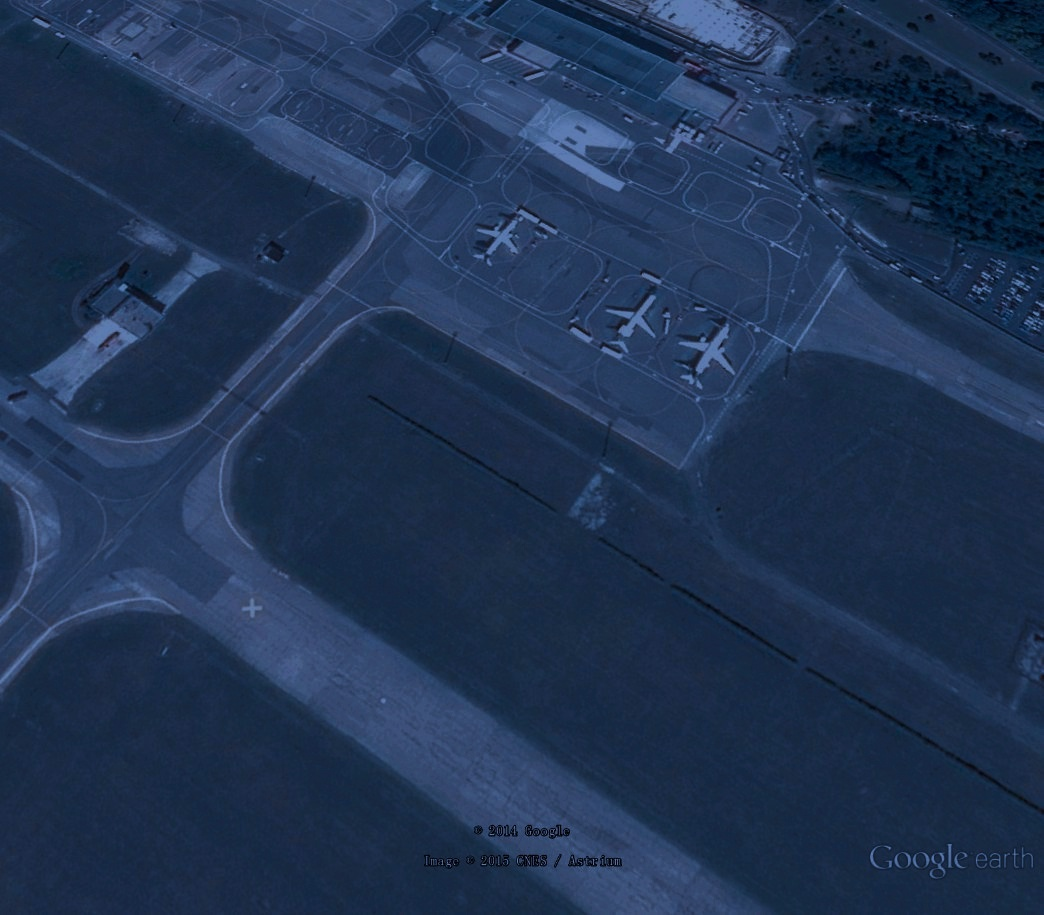aircraft: (670, 316, 744, 394), (603, 286, 660, 358), (468, 208, 528, 273)
